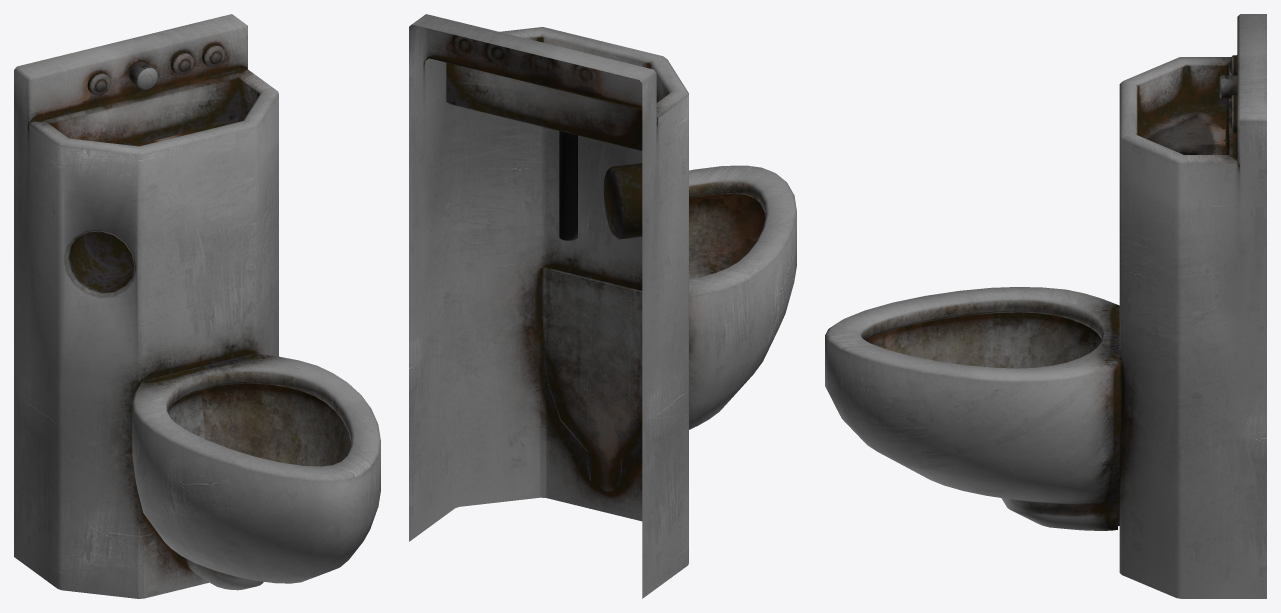
The model's file is SM_Toilet_02.fbx.
3 views of the same model, side by side, from view 1: azimuth 30°, elevation 25°; view 2: azimuth 150°, elevation 25°; view 3: azimuth 270°, elevation 25° (orthographic). The views are drawn at different scales.
Parts seen in each view (by area): view 1: SM_Toilet_02_LOD0; view 2: SM_Toilet_02_LOD0; view 3: SM_Toilet_02_LOD0.
Boxes of the visible parts, x1,y1,x2,y2 form: SM_Toilet_02_LOD0: (14, 14, 380, 598); SM_Toilet_02_LOD0: (409, 14, 796, 598); SM_Toilet_02_LOD0: (825, 14, 1266, 598).
Bounding box in the file's own units: 63.57 × 112 × 135.
Materials: 1 (1 with a texture image).
